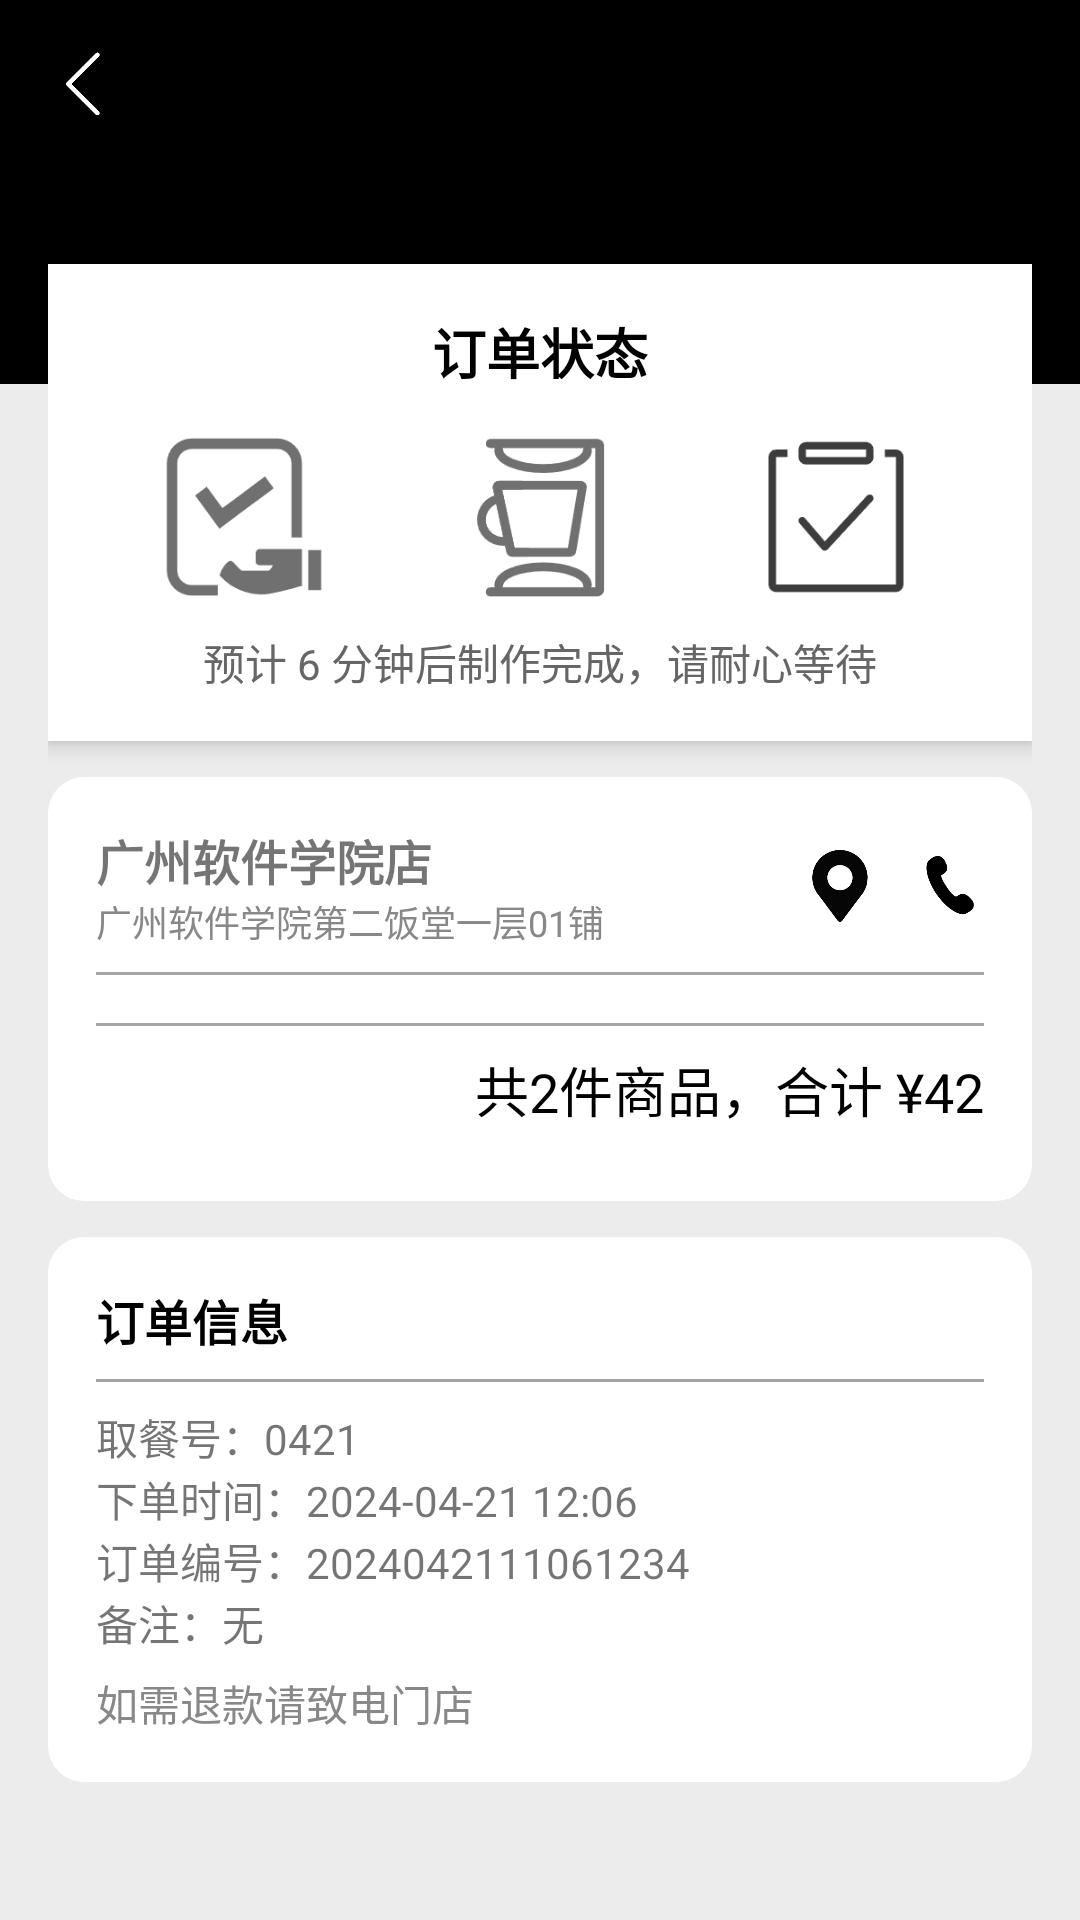

Locate icon controls on the screen. Image size 1080 x 1920, boxes as (x1, y1, x2, y2).
daohang: (812, 850, 868, 922)
jieshou: (166, 438, 322, 596)
phone: (926, 856, 974, 915)
wancheng: (768, 441, 904, 593)
返回: (66, 52, 100, 116)
